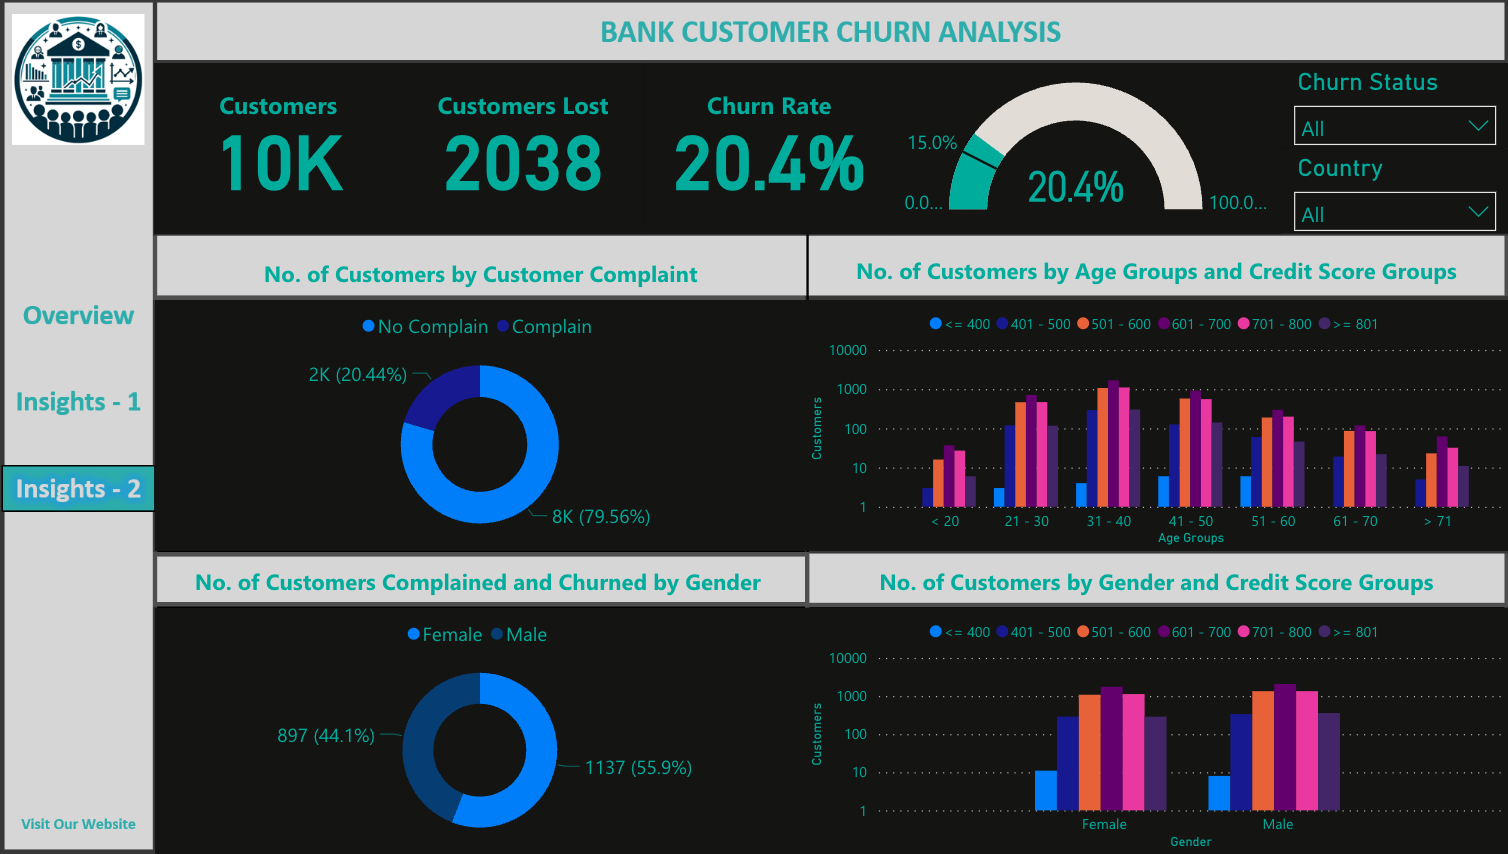

What the dashboard file says about the page in this screenshot:
{"tool":"powerbi","page":{"name":"Insights-2","canvas":[1280,720],"ordinal":2},"visuals":[{"type":"cardVisual","fields":{"Data":["Customer Data.Customers Lost"]},"box":[346.6,54.3,206,144.3],"z":0},{"type":"cardVisual","fields":{"Data":["Customer Data.Churn Rate"]},"box":[552.6,54.3,207.2,144.3],"z":1000},{"type":"gauge","fields":{"Y":["Customer Data.Churn Rate"],"MinValue":["Min(Customer Data.Min Churn Rate)"],"MaxValue":["Max(Customer Data.Max Churn Rate)"],"TargetValue":["Max(Customer Data.Target Churn Rate)"]},"box":[759.8,54.3,328.1,144.3],"z":2000},{"type":"cardVisual","fields":{"Data":["Customer Data.Customers"]},"box":[139.4,54.3,207.2,144.3],"z":3000},{"type":"slicer","fields":{"Values":["Customer Data.Churn Status"]},"box":[1087.8,54.3,191.8,72.4],"z":4000},{"type":"slicer","fields":{"Values":["Customer Data.Country"]},"box":[1087.8,126.6,191.8,71.2],"z":5000},{"type":"textbox","box":[685.5,210.9,594.5,40.7],"z":6000},{"type":"textbox","box":[141,213.7,546.2,38.1],"z":7000},{"type":"textbox","box":[138.7,472.8,546.3,41],"z":8000},{"type":"textbox","box":[685.5,472.4,594.5,40.7],"z":9000},{"type":"donutChart","fields":{"Category":["Customer Data.Gender"],"Y":["Customer Data.Complained & Churned"]},"box":[140.6,512.8,546.4,207.2],"z":10000},{"type":"clusteredColumnChart","fields":{"Series":["Credit Score Groups.Credit Score Group"],"Y":["Customer Data.Customers"],"Category":["Customer Data.Gender"]},"box":[686.7,512.8,593.3,207.2],"z":11000},{"type":"donutChart","fields":{"Y":["Customer Data.Customers"],"Category":["Customer Data.Customer Complain"]},"box":[140.6,254.1,546.4,210.9],"z":12000},{"type":"clusteredColumnChart","fields":{"Series":["Credit Score Groups.Credit Score Group"],"Y":["Customer Data.Customers"],"Category":["Age Groups.Age Groups"]},"box":[686.7,254.1,593.3,210.9],"z":13000},{"type":"actionButton","box":[8.4,674.2,125.4,39.8],"z":14000},{"type":"actionButton","box":[13.3,319.6,125.4,39.8],"z":15000},{"type":"actionButton","box":[15.7,247.2,125.4,39.8],"z":15001}]}

Visuals, with their boxes in screenshot pixels (x1, y1, x2, y2), scaled from the page's 1280x720 canvas onto the 1508x854 screenshot:
cardVisual - Customer Data.Customers Lost: {"left": 408, "top": 64, "right": 651, "bottom": 236}
cardVisual - Customer Data.Churn Rate: {"left": 651, "top": 64, "right": 895, "bottom": 236}
gauge - Customer Data.Churn Rate x Min(Customer Data.Min Churn Rate): {"left": 895, "top": 64, "right": 1282, "bottom": 236}
cardVisual - Customer Data.Customers: {"left": 164, "top": 64, "right": 408, "bottom": 236}
slicer - Customer Data.Churn Status: {"left": 1282, "top": 64, "right": 1507, "bottom": 150}
slicer - Customer Data.Country: {"left": 1282, "top": 150, "right": 1507, "bottom": 235}
textbox: {"left": 808, "top": 250, "right": 1507, "bottom": 298}
textbox: {"left": 166, "top": 253, "right": 810, "bottom": 299}
textbox: {"left": 163, "top": 561, "right": 807, "bottom": 609}
textbox: {"left": 808, "top": 560, "right": 1507, "bottom": 609}
donutChart - Customer Data.Gender x Customer Data.Complained & Churned: {"left": 166, "top": 608, "right": 809, "bottom": 853}
clusteredColumnChart - Credit Score Groups.Credit Score Group x Customer Data.Customers: {"left": 809, "top": 608, "right": 1507, "bottom": 853}
donutChart - Customer Data.Customers x Customer Data.Customer Complain: {"left": 166, "top": 301, "right": 809, "bottom": 552}
clusteredColumnChart - Credit Score Groups.Credit Score Group x Customer Data.Customers: {"left": 809, "top": 301, "right": 1507, "bottom": 552}
actionButton: {"left": 10, "top": 800, "right": 158, "bottom": 847}
actionButton: {"left": 16, "top": 379, "right": 163, "bottom": 426}
actionButton: {"left": 18, "top": 293, "right": 166, "bottom": 340}
